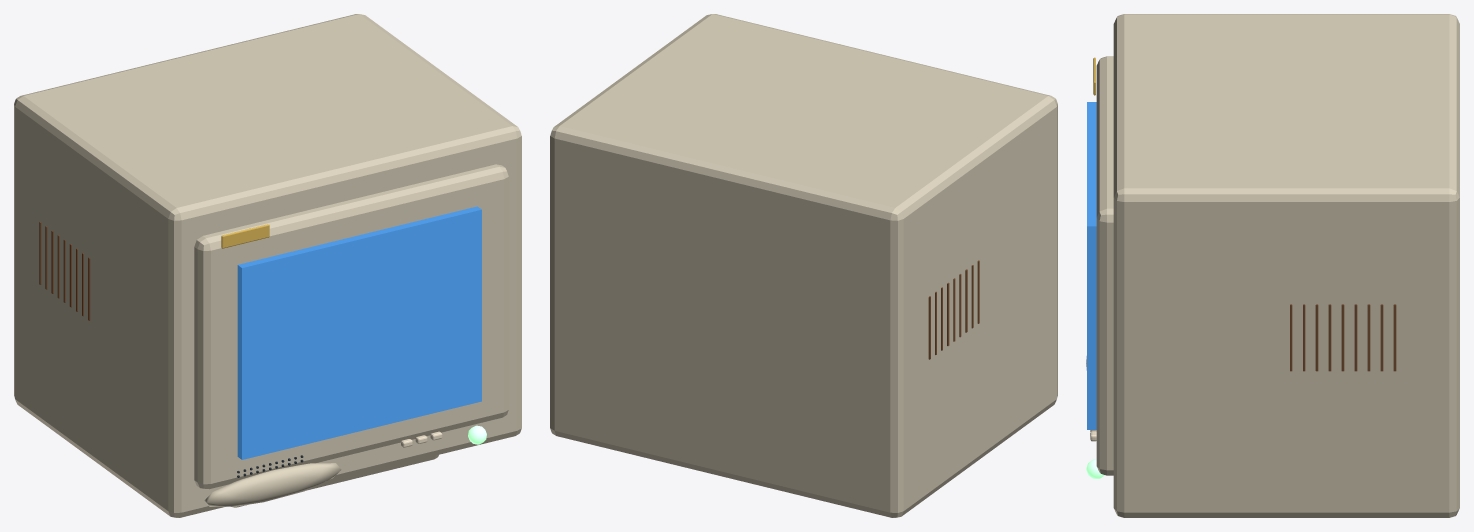
File: computer.glb
3 views of the same model, side by side, from view 1: azimuth 30°, elevation 25°; view 2: azimuth 150°, elevation 25°; view 3: azimuth 270°, elevation 25° (orthographic). The views are drawn at different scales.
Visible parts, largest first — view 1: body, screen, bezel, floppy-slot, brass-makers-plate; view 2: body; view 3: body, bezel, screen.
Boxes of the visible parts, <box> form: body: <box>14,14,521,517</box>; screen: <box>237,206,481,459</box>; bezel: <box>194,164,508,489</box>; floppy-slot: <box>204,463,341,506</box>; brass-makers-plate: <box>221,224,269,248</box>; body: <box>550,14,1057,517</box>; body: <box>1113,14,1459,517</box>; bezel: <box>1096,56,1113,475</box>; screen: <box>1087,102,1096,429</box>.
Size of the model in its own units: 0.503 by 0.44 by 0.432.
